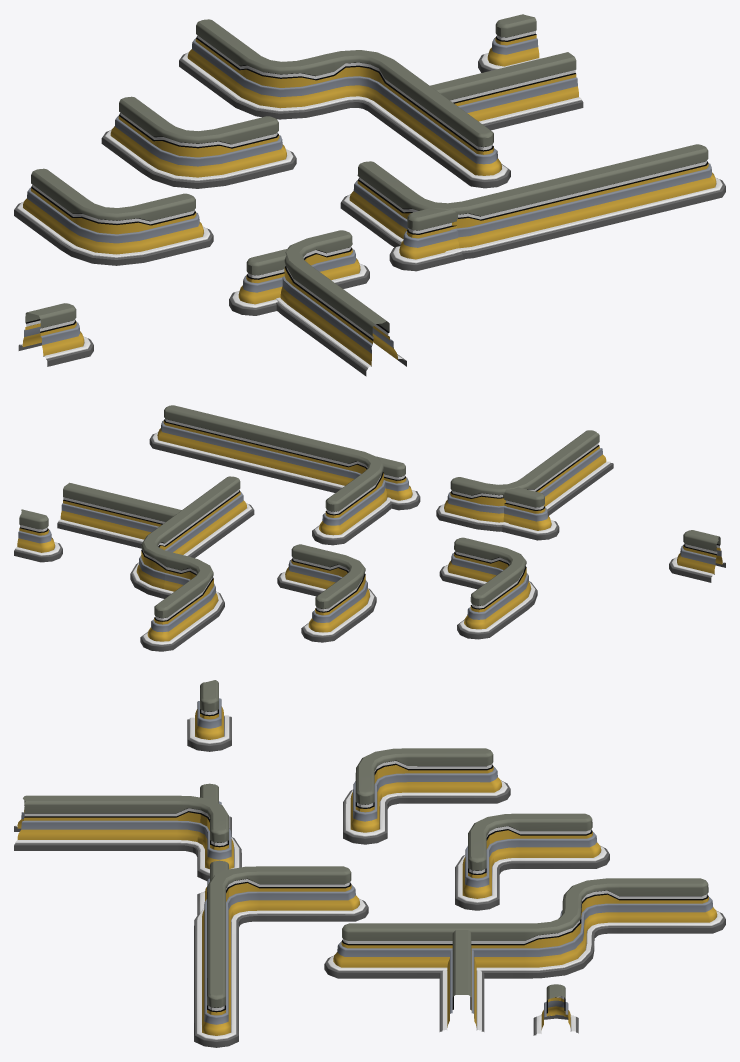
Rendered from Small walls.fbx.
3 renders of one model, top to bottom at view 1: azimuth 30°, elevation 25°; view 2: azimuth 150°, elevation 25°; view 3: azimuth 270°, elevation 25°, orthographic. The views are drawn at different scales.
Visible parts, largest first — view 1: Small_wall_L84, Small_wall_L29, Small_wall_L28, Small_wall_L30, Small_wall_L27, Small_wall_L60, Small_wall_L85, Small_wall_L86, Small_wall_L88, Small_wall_L87; view 2: Small_wall_L29, Small_wall_L84, Small_wall_L27, Small_wall_L28, Small_wall_L30, Small_wall_L60, Small_wall_L88, Small_wall_L86, Small_wall_L87, Small_wall_L85; view 3: Small_wall_L84, Small_wall_L29, Small_wall_L27, Small_wall_L28, Small_wall_L30, Small_wall_L60, Small_wall_L86, Small_wall_L87.
Boxes of the visible parts, x1,y1,x2,y2 form: Small_wall_L84: (179, 19, 510, 188); Small_wall_L29: (340, 144, 725, 259); Small_wall_L28: (14, 168, 213, 265); Small_wall_L30: (101, 96, 296, 188); Small_wall_L27: (276, 230, 406, 376); Small_wall_L60: (430, 52, 583, 130); Small_wall_L85: (389, 208, 464, 271); Small_wall_L86: (18, 303, 93, 366); Small_wall_L88: (229, 248, 287, 315); Small_wall_L87: (478, 14, 540, 72); Small_wall_L29: (149, 405, 392, 545); Small_wall_L84: (130, 476, 254, 651); Small_wall_L27: (436, 430, 613, 531); Small_wall_L28: (439, 537, 537, 639); Small_wall_L30: (277, 544, 376, 642); Small_wall_L60: (57, 482, 181, 548); Small_wall_L88: (502, 487, 559, 540); Small_wall_L86: (669, 530, 725, 582); Small_wall_L87: (14, 509, 62, 562); Small_wall_L85: (376, 456, 420, 510); Small_wall_L84: (324, 878, 725, 978); Small_wall_L29: (194, 866, 368, 1047); Small_wall_L27: (14, 795, 241, 880); Small_wall_L28: (343, 748, 510, 844); Small_wall_L30: (455, 813, 609, 910); Small_wall_L60: (439, 930, 484, 1031); Small_wall_L86: (187, 680, 231, 751); Small_wall_L87: (533, 984, 578, 1035).
Size of the model in its own units: 592 by 38.01 by 548.
